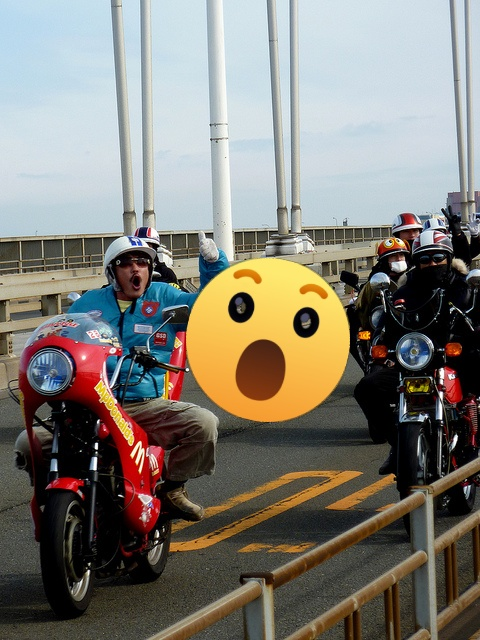wow: (186, 258, 350, 422)
